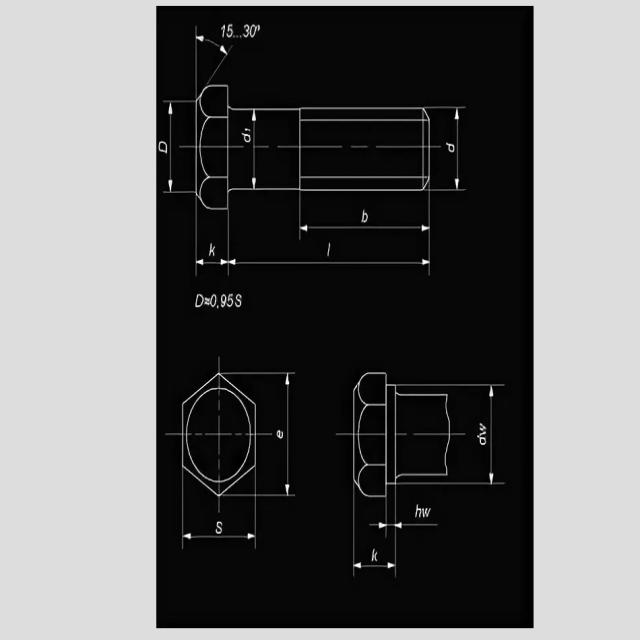marking_line: (229, 256, 431, 268), (191, 24, 231, 84), (301, 222, 430, 233), (284, 374, 293, 494), (184, 532, 256, 541), (167, 103, 174, 190), (251, 110, 258, 189), (489, 387, 494, 484), (396, 520, 437, 531), (455, 110, 460, 188), (198, 257, 227, 269), (356, 562, 394, 571), (368, 518, 385, 529)
numeric: (211, 293, 236, 309), (241, 20, 257, 40), (221, 21, 234, 38)
special_symbol: (203, 295, 211, 309)
